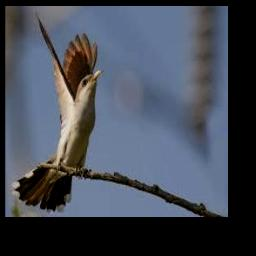Cuckoo: (12, 14, 104, 211)
